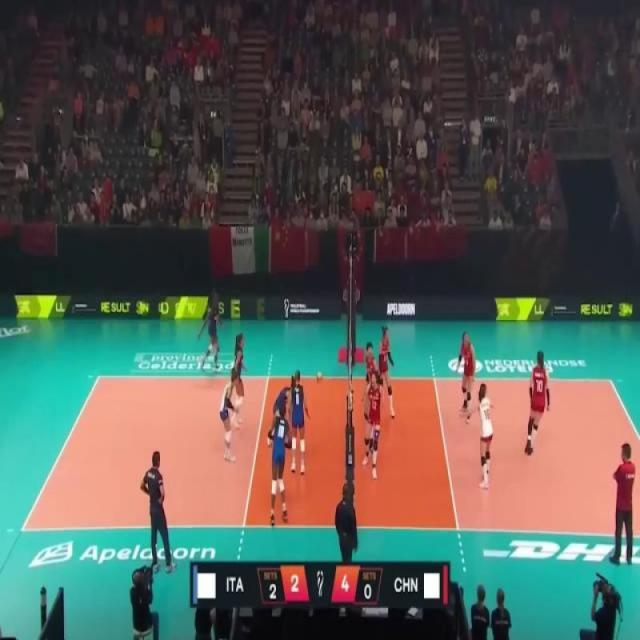volleyball: (316, 370, 324, 386)
